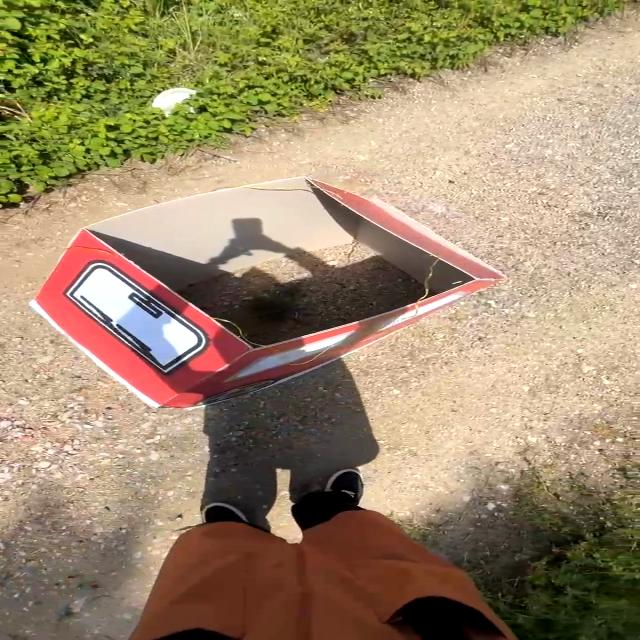red_car: (0, 154, 539, 432)
